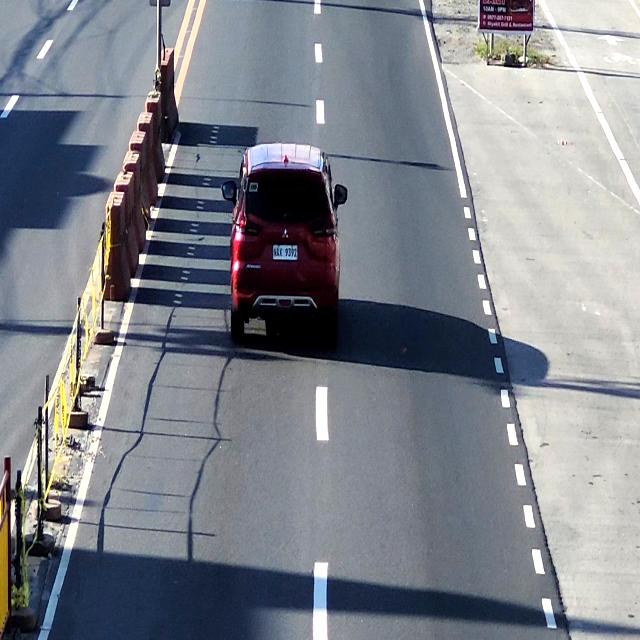Car: (230, 146, 344, 348)
License-Plate: (272, 241, 300, 264)
